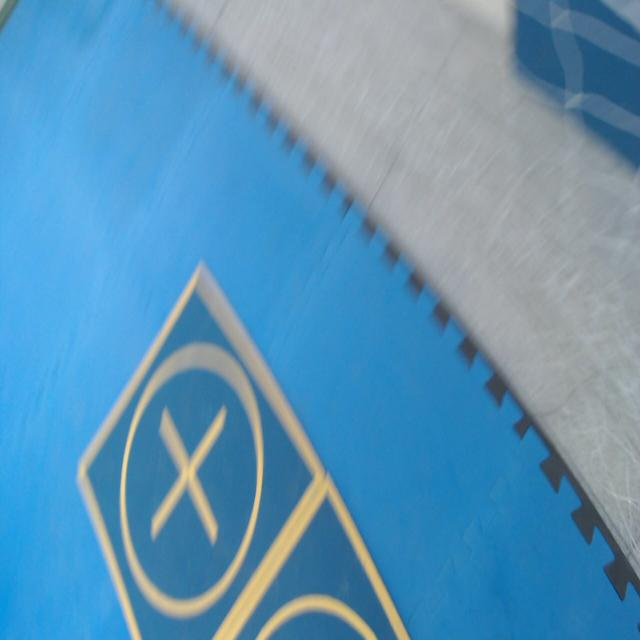base_pouso: (76, 261, 326, 639), (218, 471, 410, 639)
